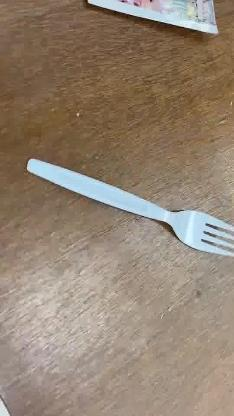Others: (26, 158, 232, 258)
